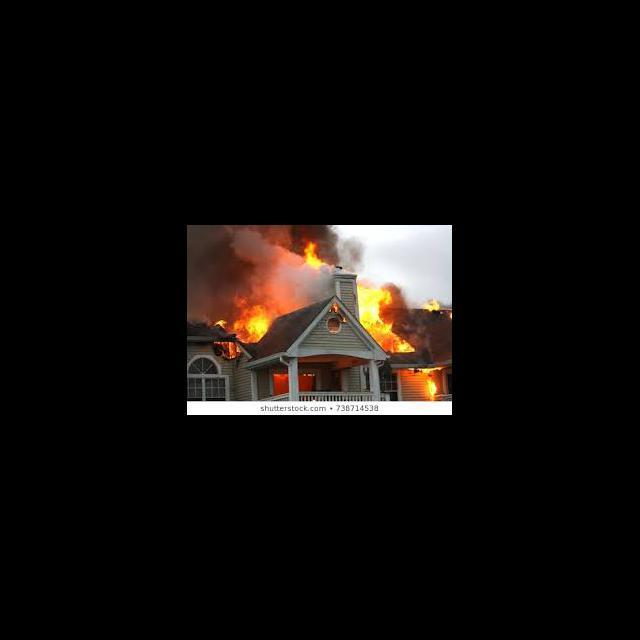Fire: (357, 287, 417, 355), (234, 296, 275, 344), (302, 240, 328, 268), (212, 340, 240, 360), (272, 370, 290, 395), (413, 364, 444, 374), (299, 374, 317, 391), (424, 379, 438, 397), (426, 296, 440, 312), (213, 316, 227, 329), (334, 303, 339, 313), (449, 310, 452, 321), (343, 318, 348, 324)
Smoke: (188, 226, 302, 294), (330, 235, 365, 269), (302, 268, 333, 296), (188, 296, 212, 324), (302, 226, 340, 240), (278, 292, 302, 314), (212, 294, 234, 314)
